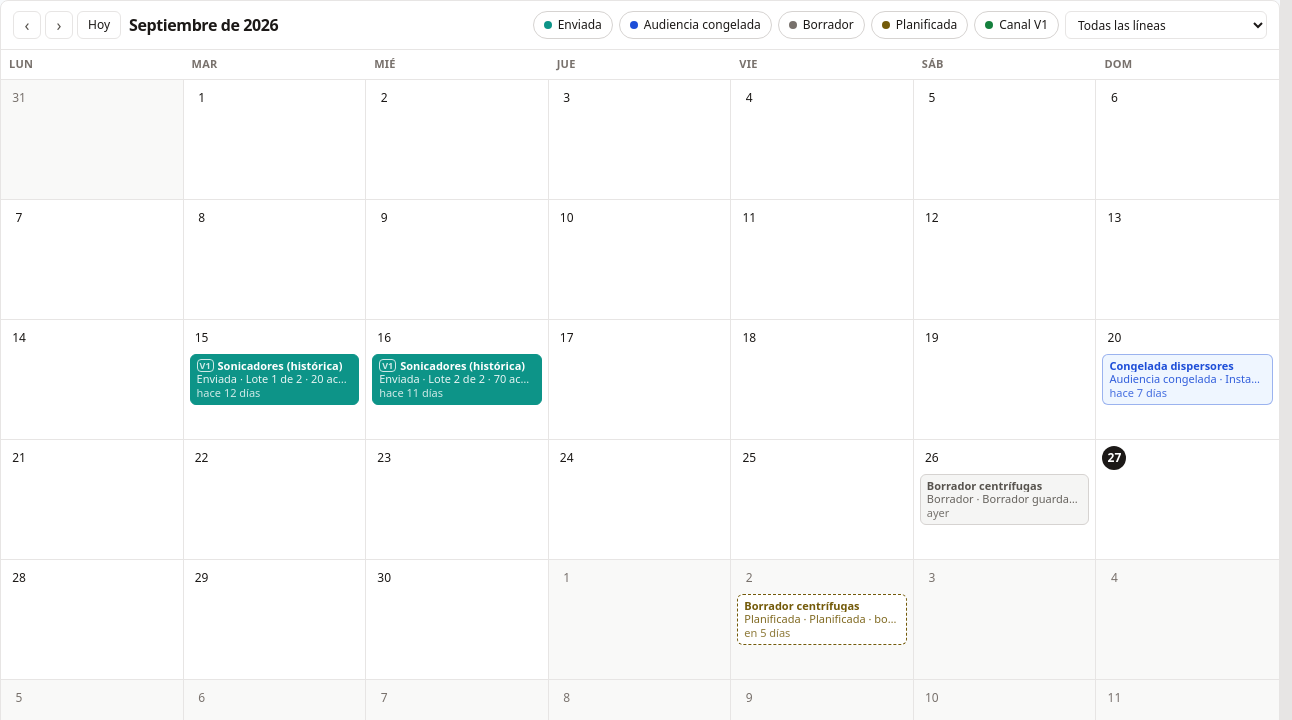
Test: CampaignCalendar › moves between months and «Hoy» comes back
Click the button named "Mes siguiente": (59, 25) 45,11 -> 73,39
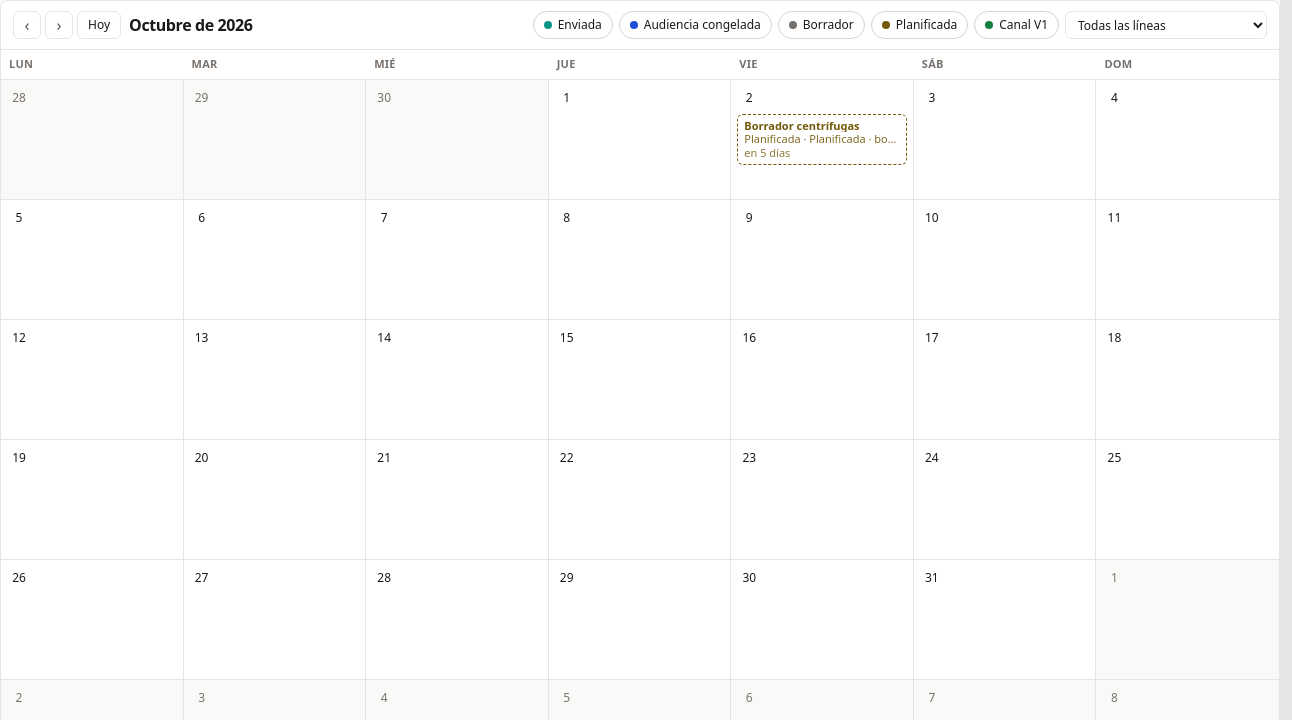
expect the heading with test id "calendar-month" reads "Octubre de 2026": met, box 129,14 -> 252,36
Click the button named "Mes anterior": (27, 25) 13,11 -> 41,39
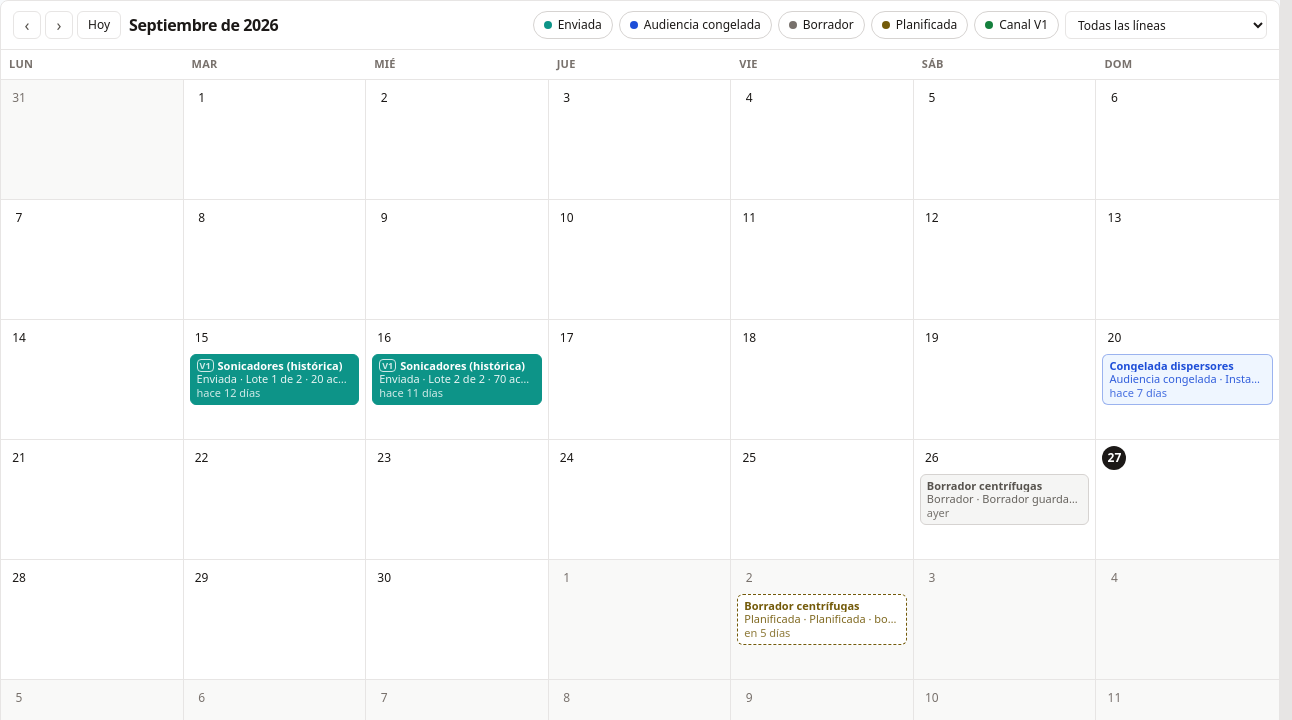
Click the button named "Mes anterior": (27, 25) 13,11 -> 41,39
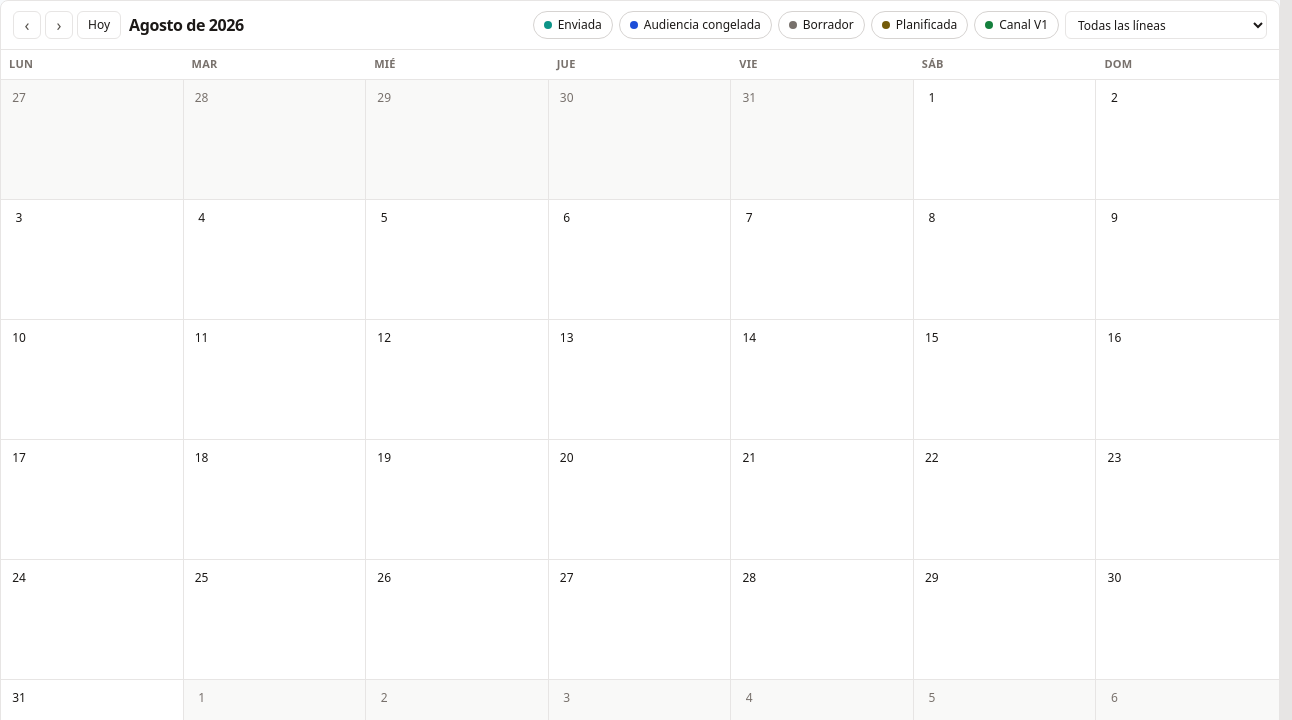
expect the heading with test id "calendar-month" reads "Agosto de 2026": met, box 129,14 -> 244,36
Click the button "Hoy": (99, 25) 77,11 -> 121,39
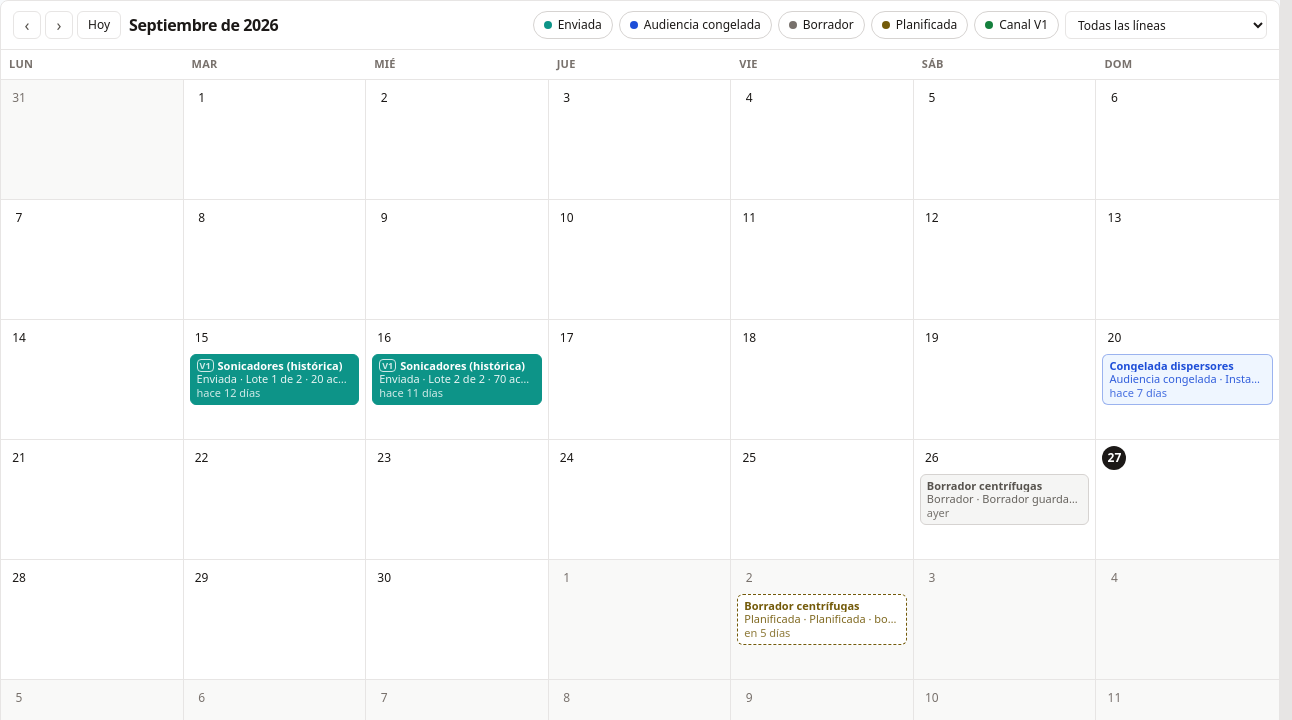
expect the heading with test id "calendar-month" reads "Septiembre de 2026": met, box 129,14 -> 278,36
